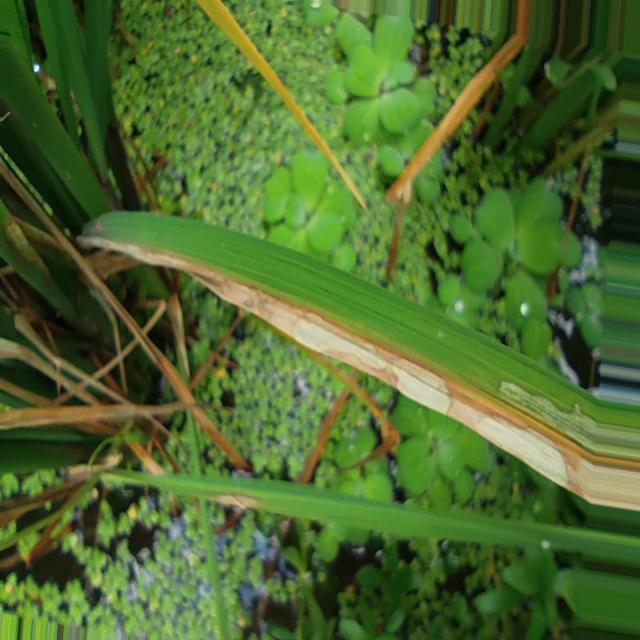Leaf_Blast: (386, 0, 531, 278), (196, 0, 366, 208)
Rice False Smut: (286, 305, 390, 383), (472, 417, 570, 487), (499, 380, 596, 447), (397, 360, 451, 413), (208, 273, 260, 317)
